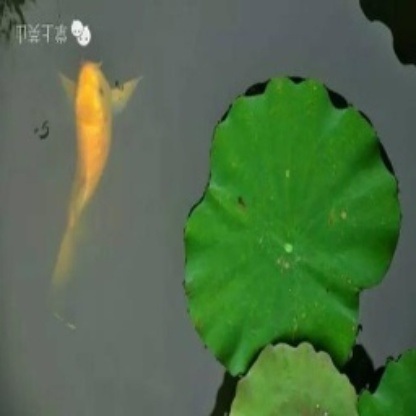leaf: (188, 67, 404, 379)
